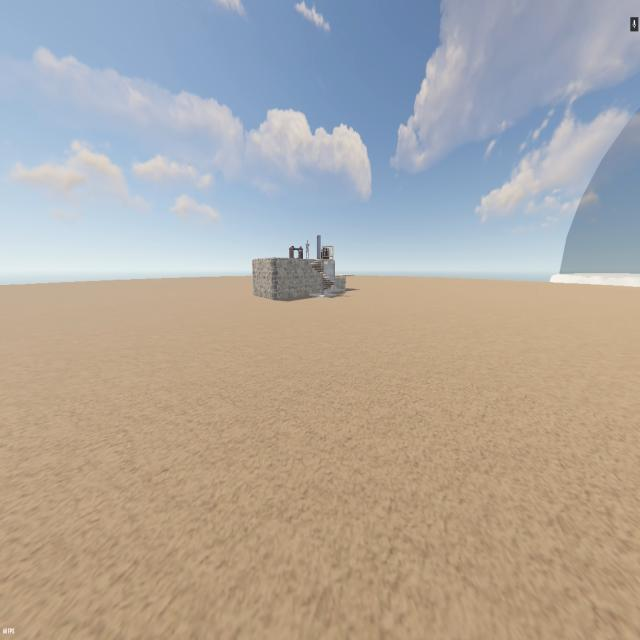Player: (305, 240, 310, 260)
